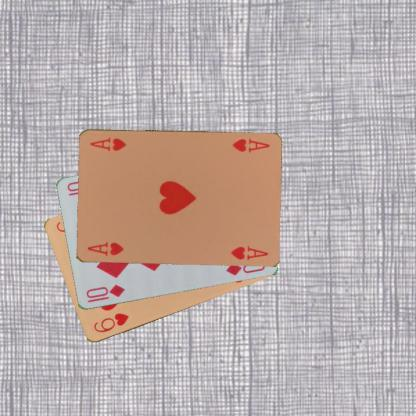10d: (83, 282, 126, 304)
6h: (91, 310, 130, 335)
Ah: (229, 136, 270, 154), (84, 240, 125, 257)
